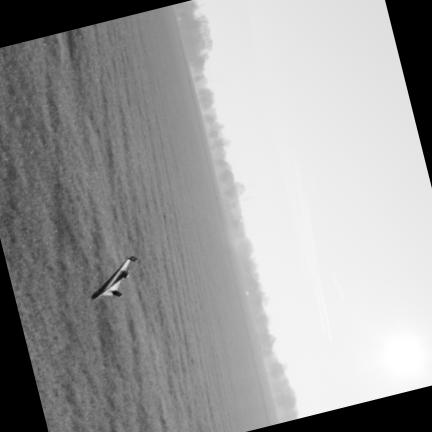Shahed: (91, 256, 136, 298)
